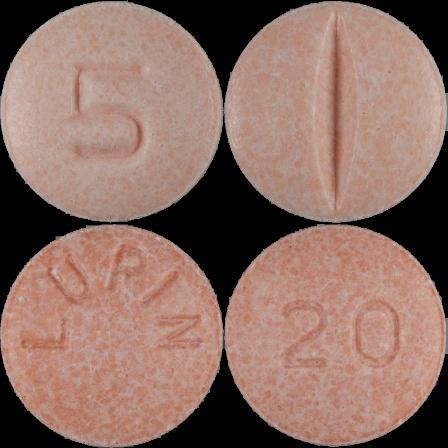68180-513: (0, 0, 224, 224)
